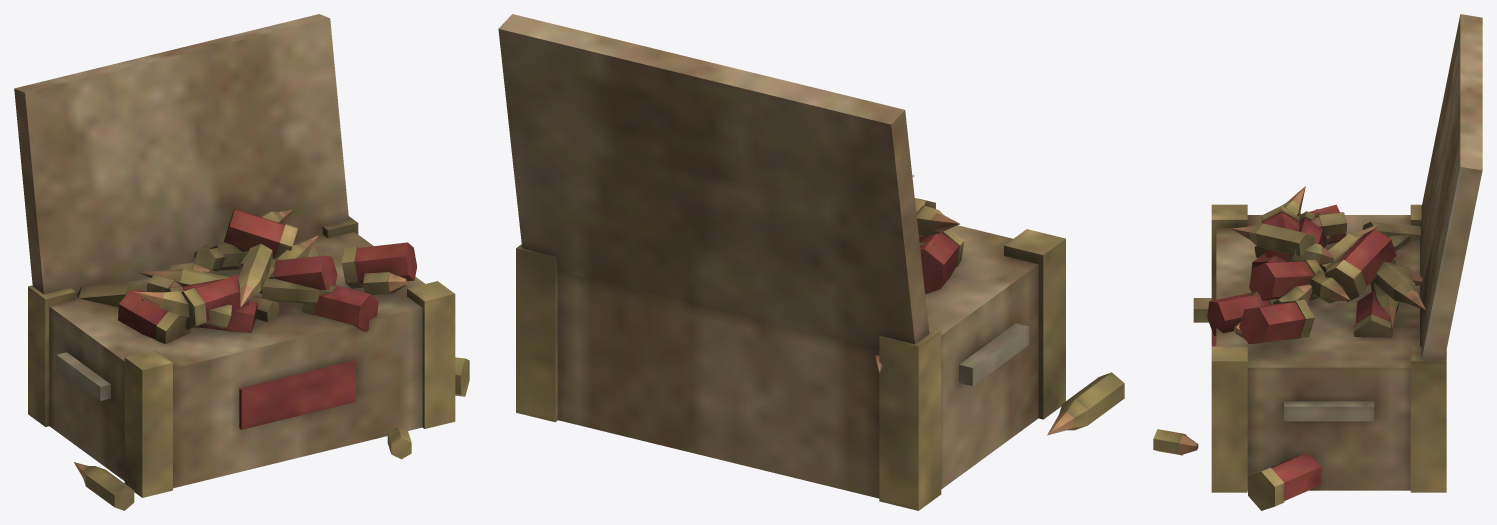
Rendered from SM_Loot_AmmoBox.fbx.
The picture shows the model from 3 angles, left to right: view 1: azimuth 30°, elevation 25°; view 2: azimuth 150°, elevation 25°; view 3: azimuth 270°, elevation 25°; orthographic projection. The views are drawn at different scales.
Visible parts, largest first — view 1: SM_Loot_AmmoBox; view 2: SM_Loot_AmmoBox; view 3: SM_Loot_AmmoBox.
Boxes of the visible parts, x1,y1,x2,y2 form: SM_Loot_AmmoBox: (14, 14, 469, 510); SM_Loot_AmmoBox: (498, 14, 1124, 510); SM_Loot_AmmoBox: (1153, 14, 1482, 510).
Size of what is drawn, in the model's own units: 104 by 79.34 by 72.82.
Materials: 1 (1 with a texture image).
